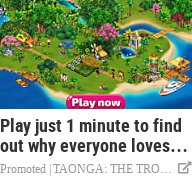fake_button: (65, 92, 128, 114)
